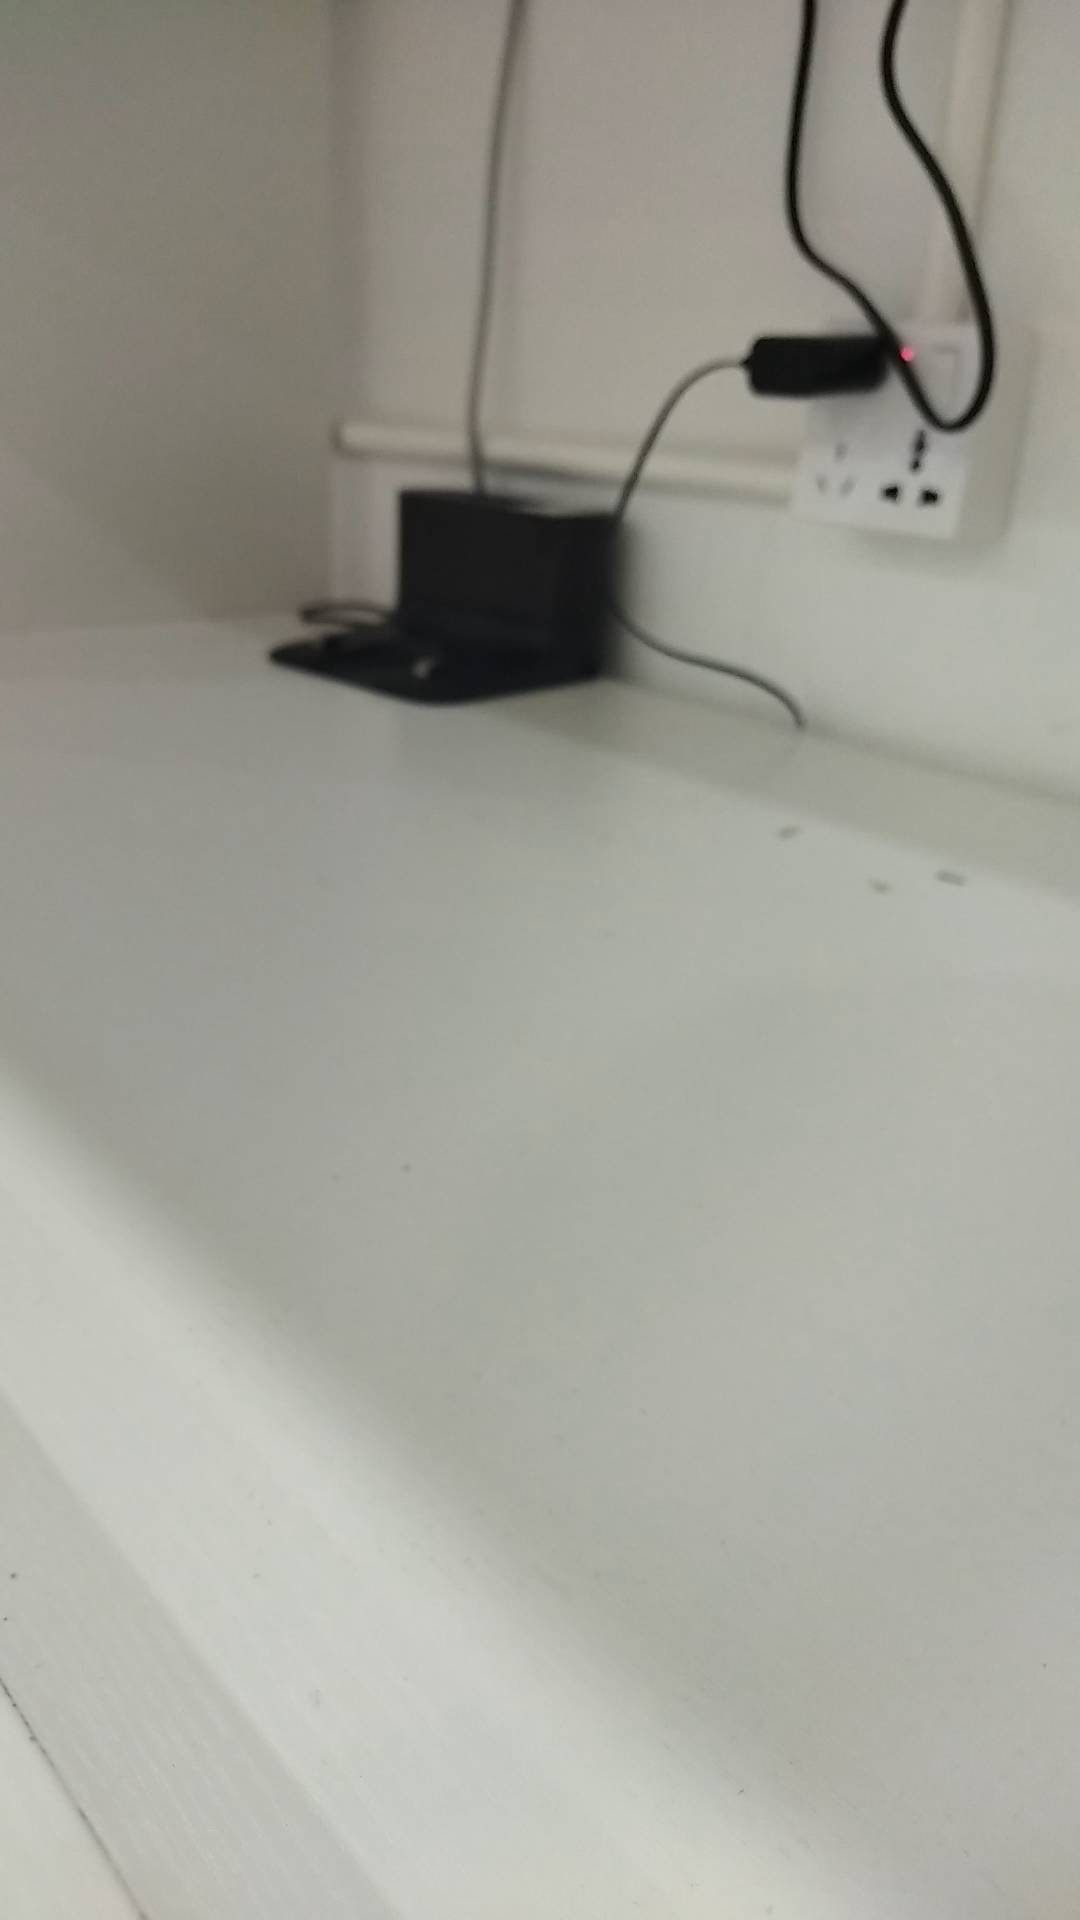recharge seat: (270, 484, 626, 702)
